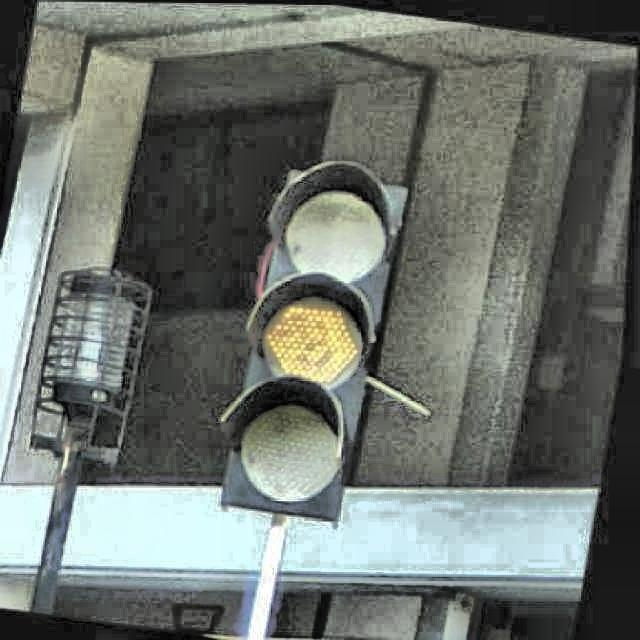yellow: (223, 172, 391, 514)
